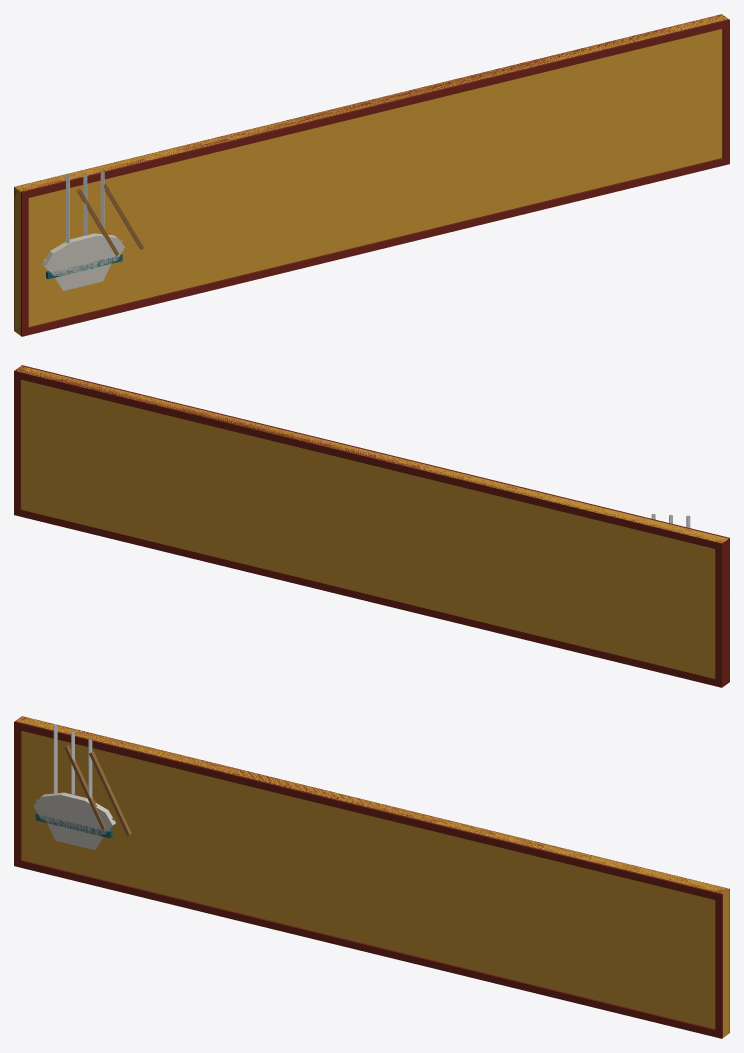
Rendered from bang_pho_ba_tam_40.glb.
3 renders of one model, top to bottom at view 1: azimuth 30°, elevation 25°; view 2: azimuth 150°, elevation 25°; view 3: azimuth 330°, elevation 25°, orthographic.
Parts seen in each view (by area): view 1: bang_pho_ba_tam_40; view 2: bang_pho_ba_tam_40; view 3: bang_pho_ba_tam_40.
Part boxes in pixels (box(x1,y1,x2,y2)): bang_pho_ba_tam_40: box(14, 14, 729, 336); bang_pho_ba_tam_40: box(14, 365, 729, 687); bang_pho_ba_tam_40: box(14, 716, 729, 1038).
Bounding box in the file's own units: 3.7 × 0.766 × 0.1024.
